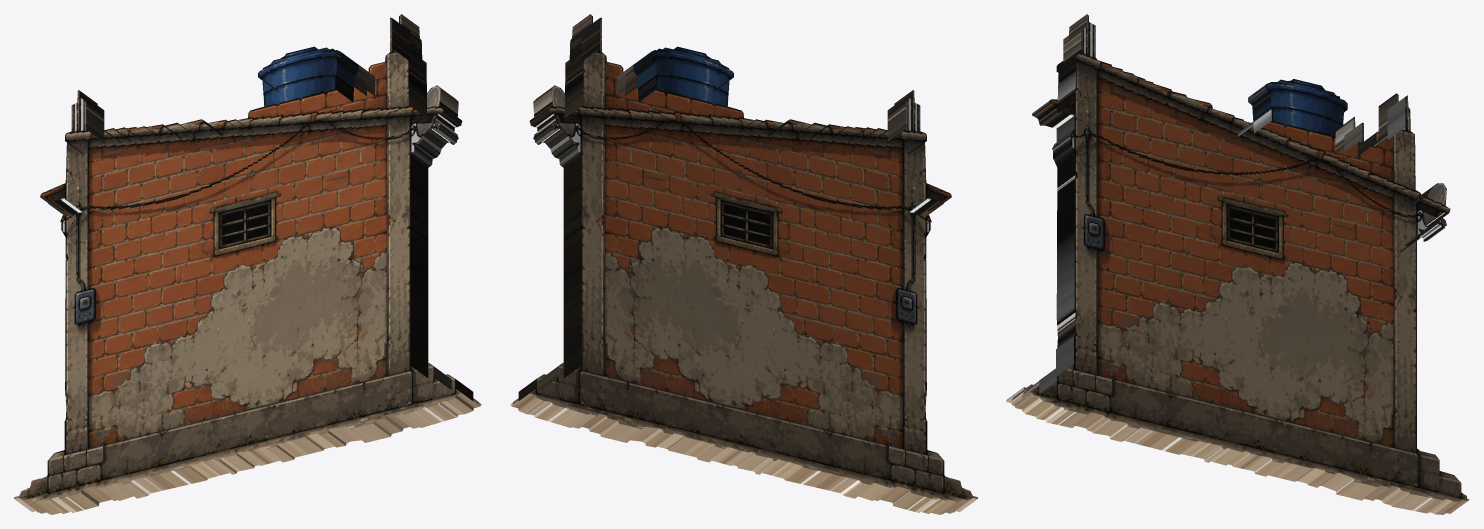
The model's file is house_01_side.glb.
3 views of the same model, side by side, from view 1: azimuth 30°, elevation 25°; view 2: azimuth 150°, elevation 25°; view 3: azimuth 330°, elevation 25° (orthographic).
Parts seen in each view (by area): view 1: world; view 2: world; view 3: world.
Part boxes in pixels (x1,y1,x2,y2): world: (14,14,481,514); world: (510,14,977,514); world: (1006,14,1469,514).
Size of the model in its own units: 7.41 by 6.39 by 0.512.
Materials: 1 (1 with a texture image).
